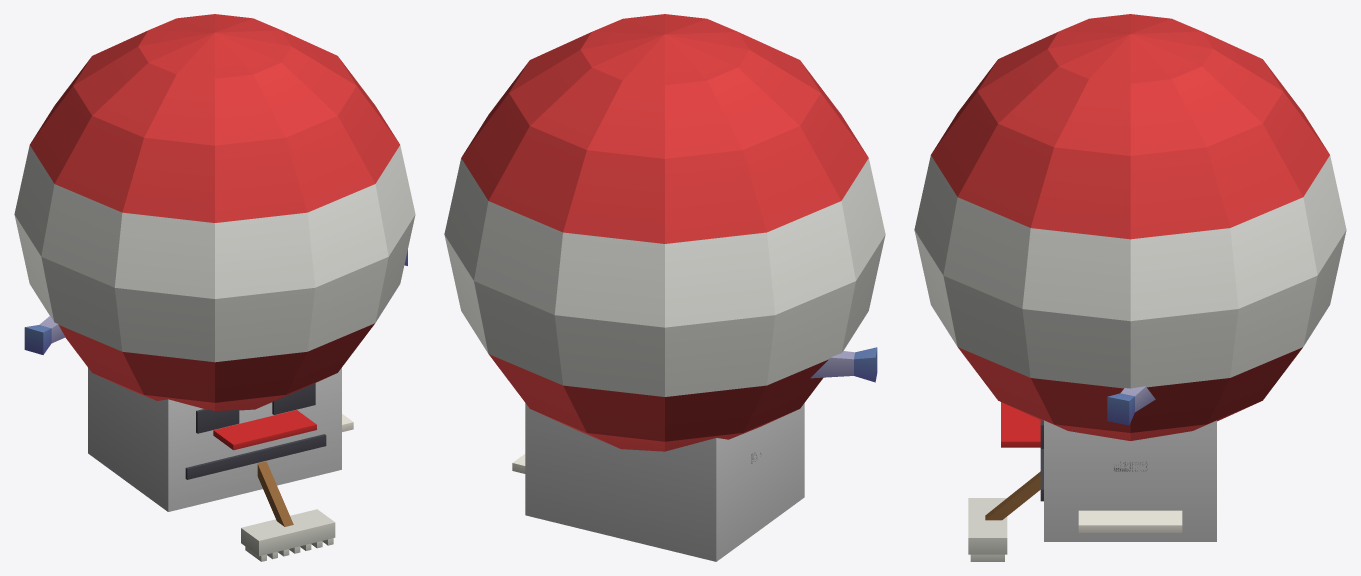
Rendered from mini_zombies_kenney.glb.
3 renders of one model, left to right at view 1: azimuth 30°, elevation 25°; view 2: azimuth 150°, elevation 25°; view 3: azimuth 270°, elevation 25°, orthographic. The views are drawn at different scales.
Parts seen in each view (by area): view 1: mini_zombies; view 2: mini_zombies; view 3: mini_zombies.
Boxes of the visible parts, x1=… form: mini_zombies: x1=14, y1=14, x2=415, y2=561; mini_zombies: x1=444, y1=14, x2=885, y2=561; mini_zombies: x1=914, y1=14, x2=1346, y2=561.
Size of the model in its own units: 1.1 by 1.29 by 1.
Materials: 1 (1 with a texture image).
